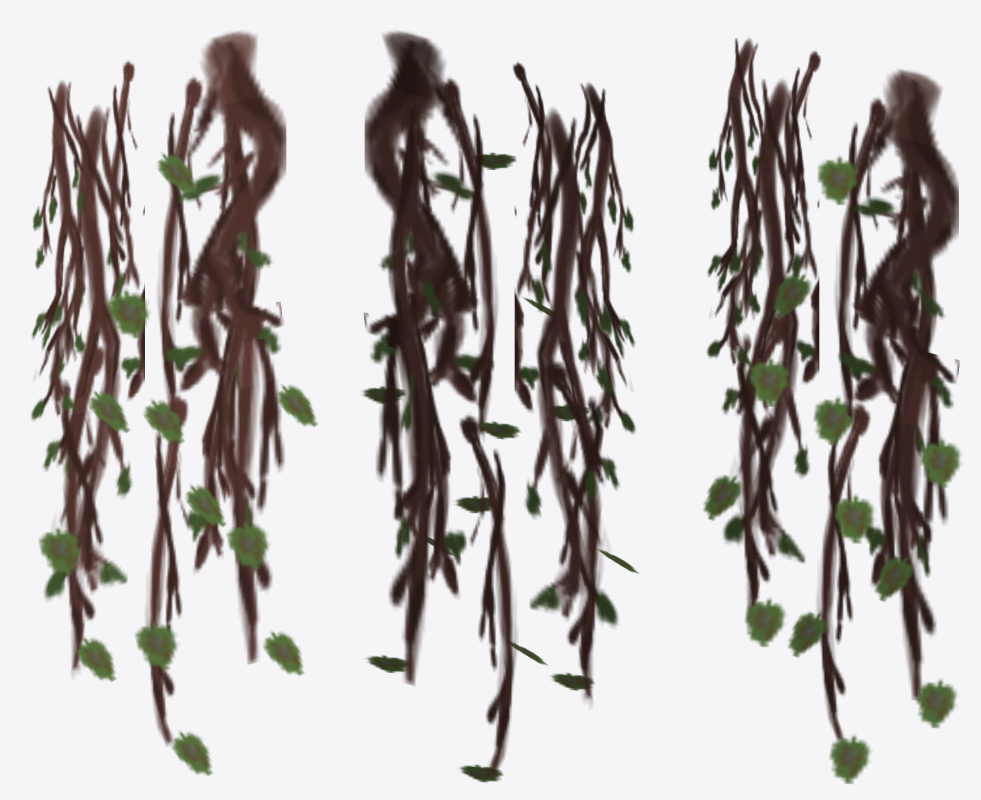
Rendered from Veg-1.glb.
The picture shows the model from 3 angles, left to right: view 1: azimuth 30°, elevation 25°; view 2: azimuth 150°, elevation 25°; view 3: azimuth 330°, elevation 25°; orthographic projection. The views are drawn at different scales.
Visible parts, largest first — view 1: Plane; view 2: Plane; view 3: Plane.
Boxes of the visible parts, x1,y1,x2,y2 form: Plane: (31, 31, 317, 775); Plane: (362, 31, 638, 782); Plane: (703, 38, 960, 783).
Size of the model in its own units: 0.586 by 1.4 by 0.1495.
1 material, 1 textured.
